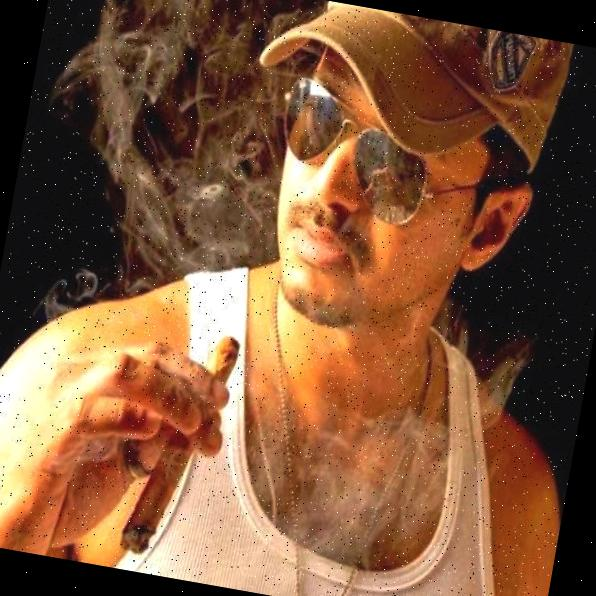smoke: (216, 317, 527, 596), (50, 0, 292, 260)
